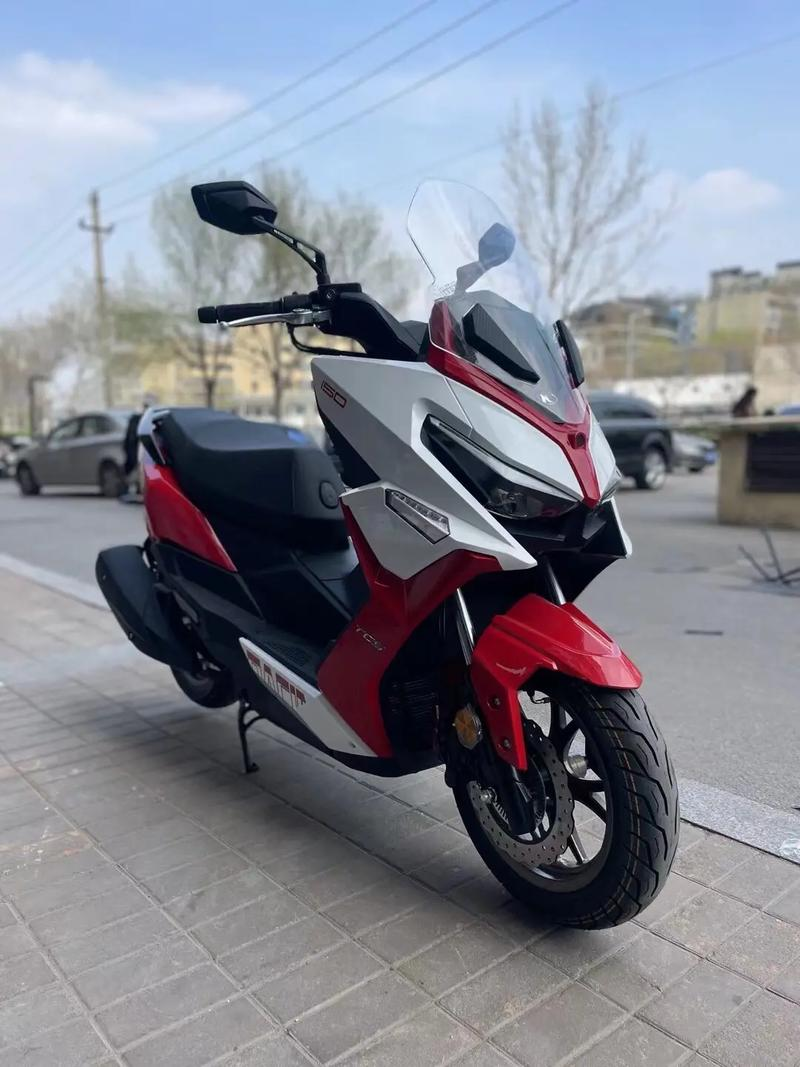摩托车: (92, 169, 702, 948)
